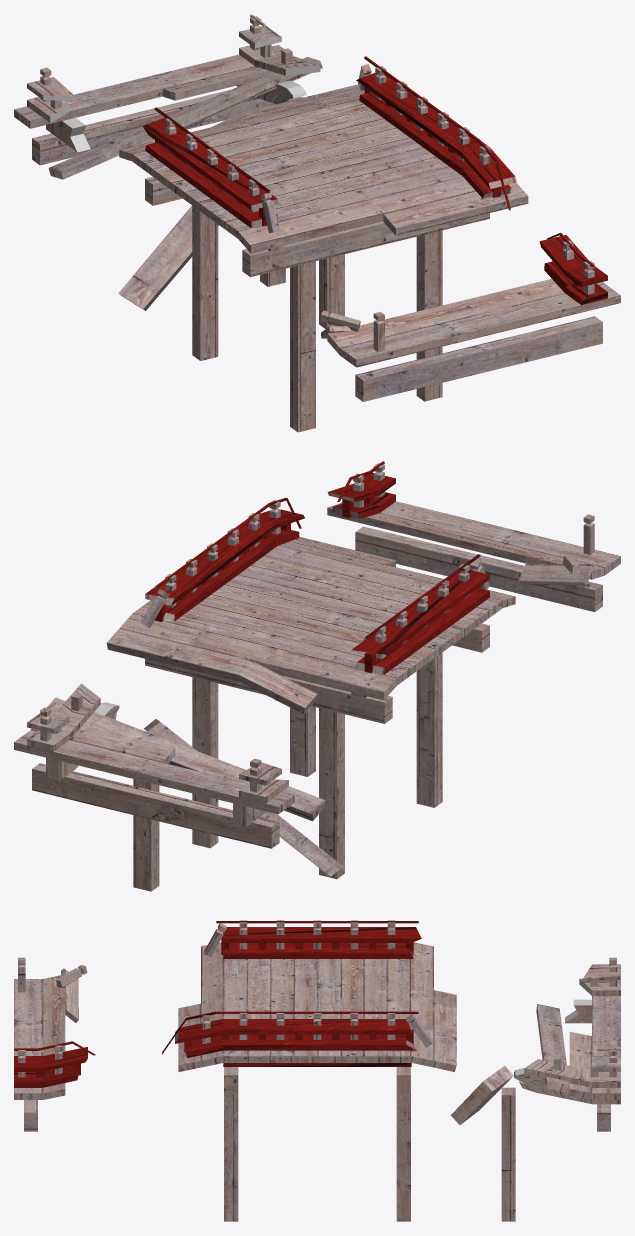
The model's file is BridgeDemolished01.fbx.
The picture shows the model from 3 angles, top to bottom: view 1: azimuth 30°, elevation 25°; view 2: azimuth 150°, elevation 25°; view 3: azimuth 270°, elevation 25°; orthographic projection. The views are drawn at different scales.
Visible parts, largest first — view 1: Cube_008, Cube_010, Cube_009, Cube02, Cube02_001, Cube02_002; view 2: Cube_008, Cube_009, Cube_010, Cube02, Cube02_001, Cube02_002; view 3: Cube_008, Cube02, Cube_009, Cube_010, Cube02_001, Cube02_002.
Boxes of the visible parts, x1=… form: Cube_008: x1=119, y1=64, x2=528, y2=432; Cube_010: x1=320, y1=240, x2=620, y2=401; Cube_009: x1=14, y1=16, x2=322, y2=310; Cube02: x1=142, y1=56, x2=516, y2=251; Cube02_001: x1=27, y1=14, x2=320, y2=152; Cube02_002: x1=539, y1=233, x2=607, y2=304; Cube_008: x1=106, y1=500, x2=515, y2=879; Cube_009: x1=14, y1=697, x2=343, y2=891; Cube_010: x1=327, y1=463, x2=620, y2=611; Cube02: x1=142, y1=497, x2=489, y2=698; Cube02_001: x1=27, y1=683, x2=288, y2=826; Cube02_002: x1=327, y1=461, x2=395, y2=518; Cube_008: x1=178, y1=920, x2=456, y2=1221; Cube02: x1=162, y1=921, x2=421, y2=1066; Cube_009: x1=450, y1=957, x2=620, y2=1221; Cube_010: x1=14, y1=957, x2=87, y2=1131; Cube02_001: x1=514, y1=964, x2=620, y2=1104; Cube02_002: x1=14, y1=1041, x2=95, y2=1087.
Size of the model in its own units: 739 by 668 by 1642.
